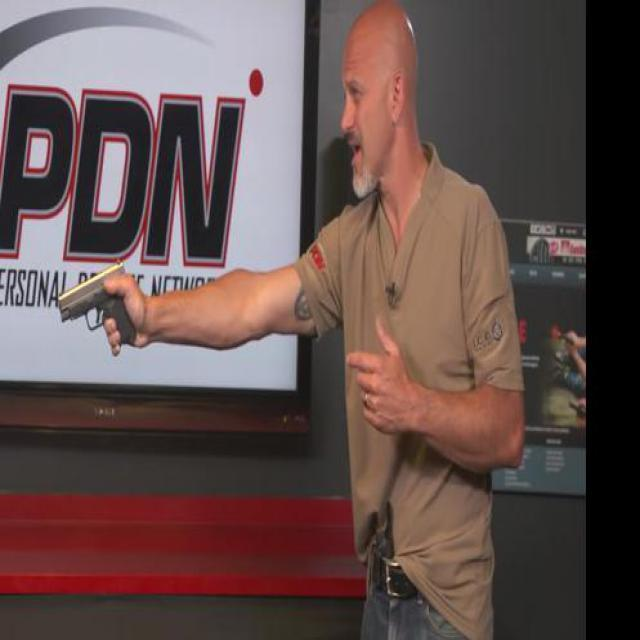gun: (55, 258, 139, 348)
